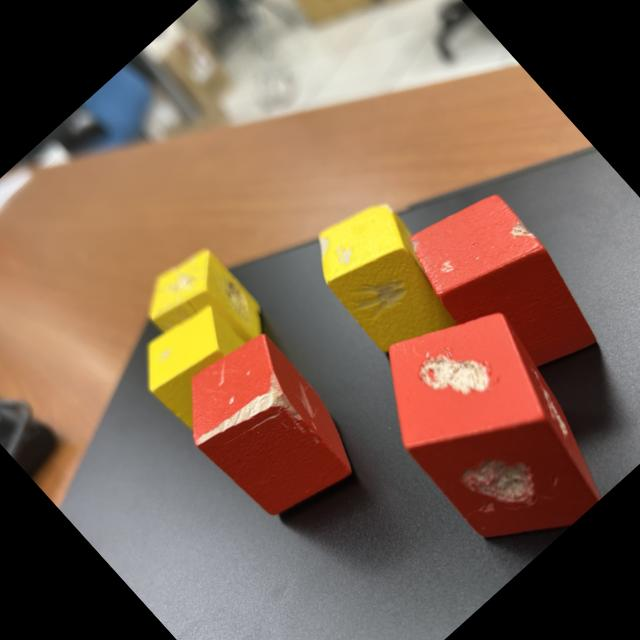broken: (343, 273, 635, 572), (388, 173, 616, 407), (158, 320, 372, 538), (294, 184, 480, 374), (131, 235, 278, 384), (124, 291, 268, 434)
